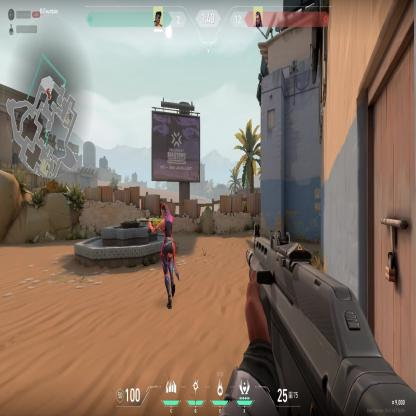enemy: (147, 200, 180, 312)
